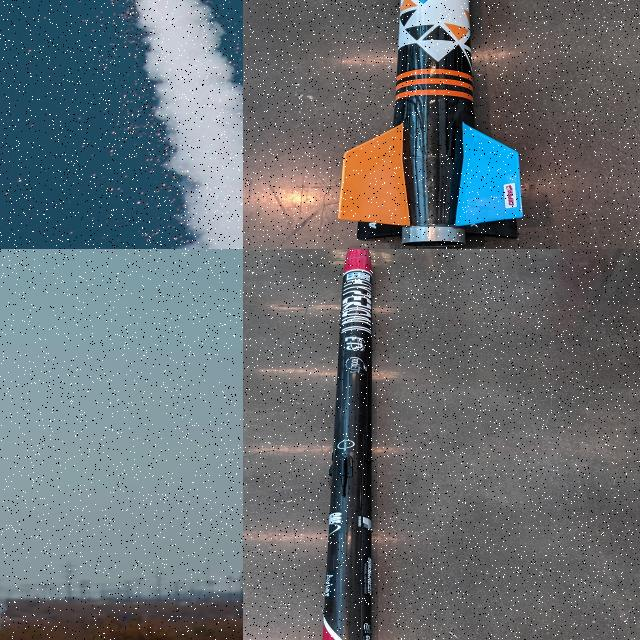Rocket: (337, 0, 524, 248), (322, 249, 373, 640)
